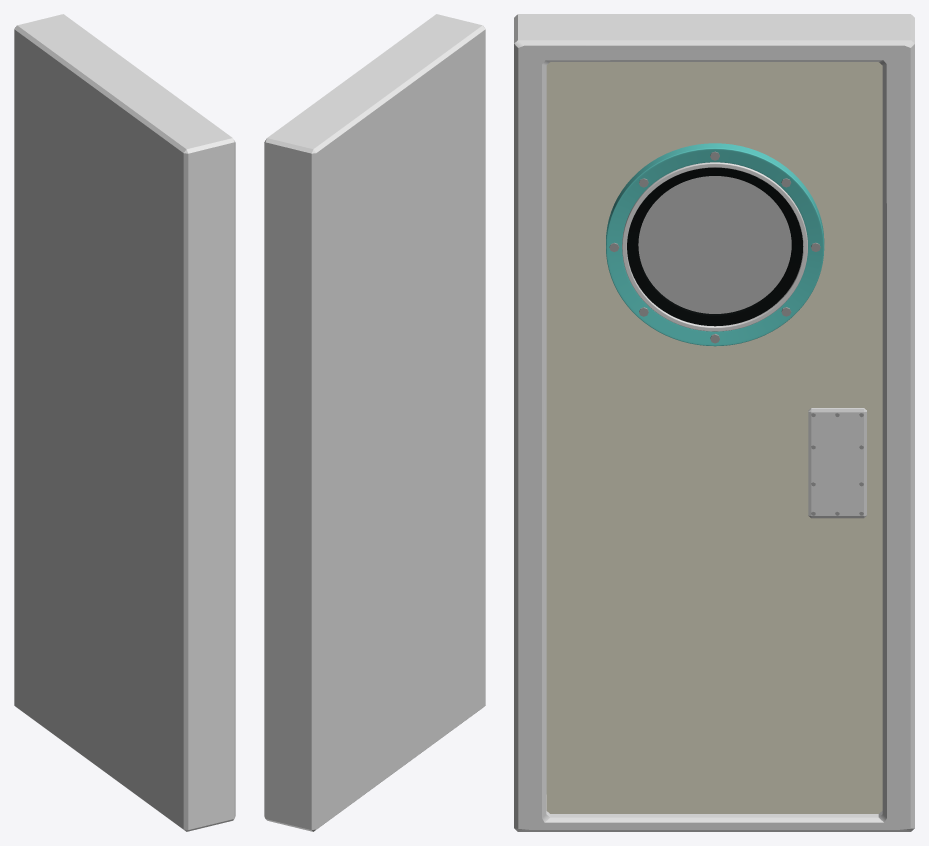
The model's file is door.fbx.
3 renders of one model, left to right at view 1: azimuth 30°, elevation 25°; view 2: azimuth 150°, elevation 25°; view 3: azimuth 270°, elevation 25°, orthographic. The views are drawn at different scales.
Parts seen in each view (by area): view 1: pCube17; view 2: pCube17; view 3: pCube25, pCube17, pasted__pCylinder4, pCylinder4, pCube26, pasted__pCylinder9, pasted__pasted__pCylinder5.
Part boxes in pixels (x1,y1,x2,y2): pCube17: [14, 14, 235, 831]; pCube17: [264, 14, 485, 831]; pCube25: [546, 62, 882, 813]; pCube17: [514, 14, 914, 831]; pasted__pCylinder4: [638, 176, 791, 313]; pCylinder4: [606, 143, 824, 346]; pCube26: [808, 408, 866, 518]; pasted__pCylinder9: [627, 167, 803, 326]; pasted__pasted__pCylinder5: [622, 162, 807, 331].
Bounding box in the file's own units: 0.3651 × 4.53 × 2.08.
